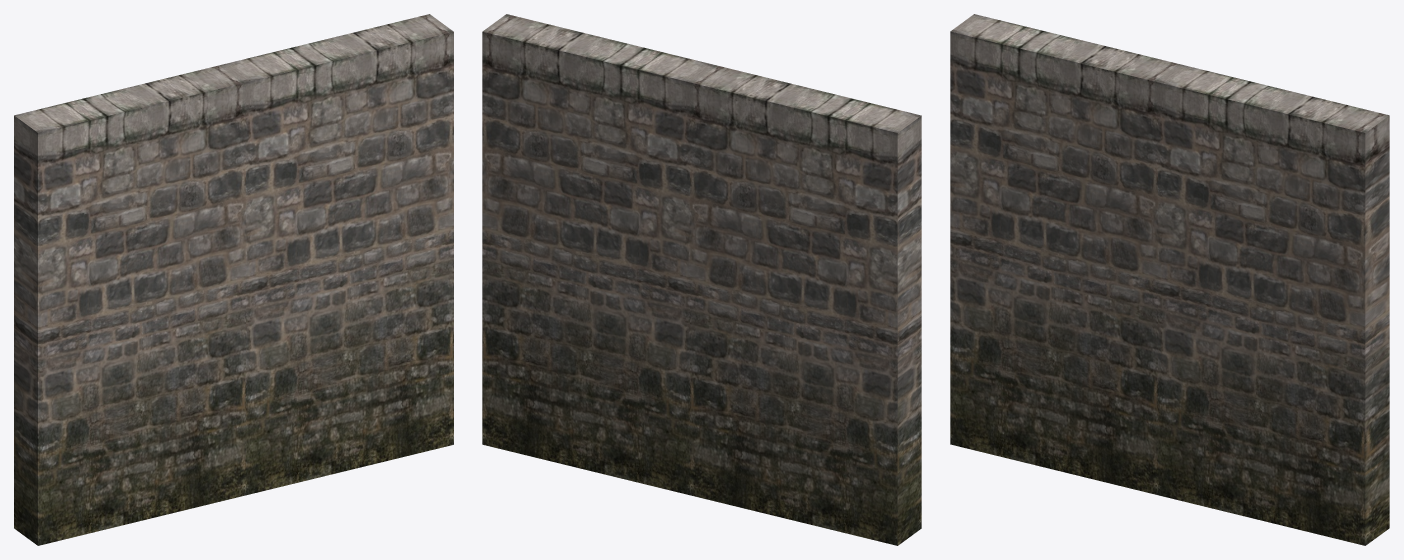
Rendered from TallWallStone_20.fbx.
The picture shows the model from 3 angles, left to right: view 1: azimuth 30°, elevation 25°; view 2: azimuth 150°, elevation 25°; view 3: azimuth 330°, elevation 25°; orthographic projection.
Visible parts, largest first — view 1: lod_high; view 2: lod_high; view 3: lod_high.
Boxes of the visible parts, x1,y1,x2,y2 form: lod_high: (14,14,453,545); lod_high: (482,14,921,545); lod_high: (950,14,1389,545).
Bounding box in the file's own units: 2001 × 1900 × 202.
1 material, 1 textured.
